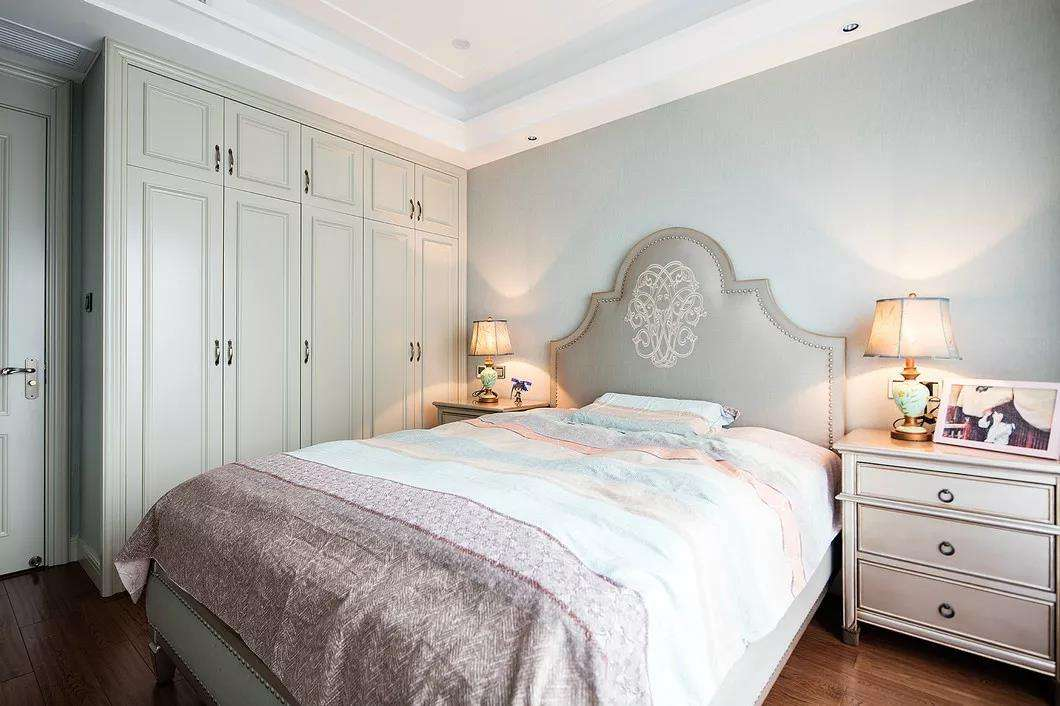床: (117, 413, 852, 704)
枕头: (565, 392, 735, 434)
灯: (865, 288, 963, 437), (462, 319, 516, 405), (450, 36, 476, 55), (839, 20, 863, 36), (521, 133, 542, 148)
